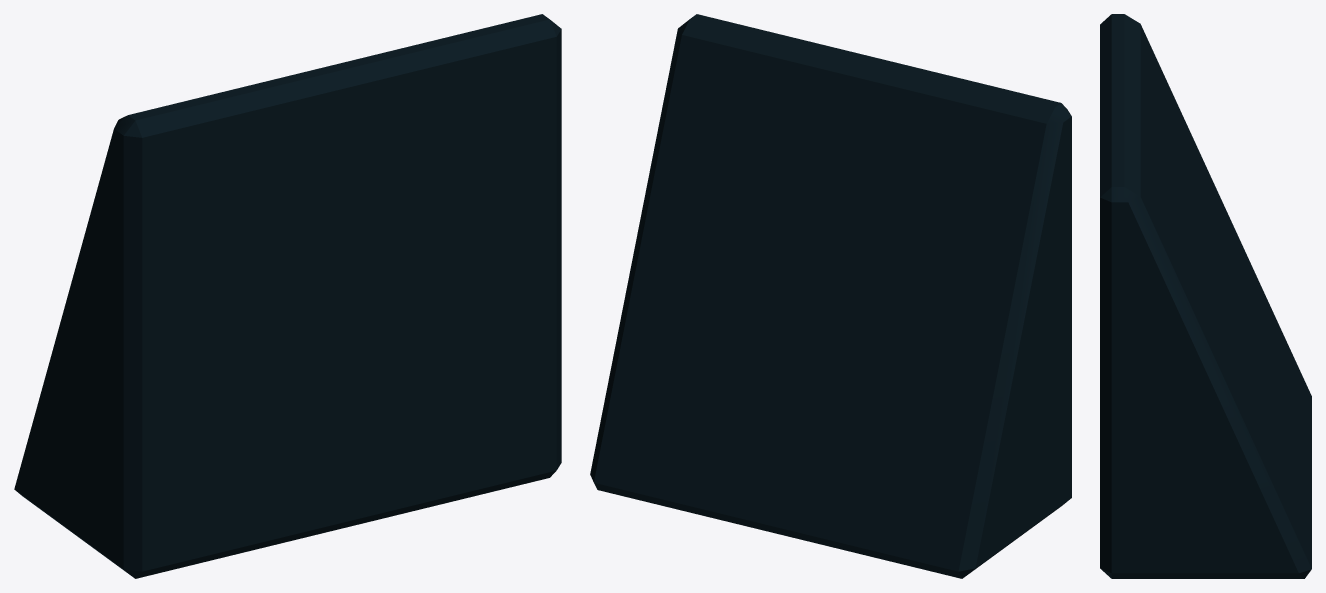
Rendered from OneRoom_TriangularBackrest.fbx.
The picture shows the model from 3 angles, left to right: view 1: azimuth 30°, elevation 25°; view 2: azimuth 150°, elevation 25°; view 3: azimuth 270°, elevation 25°; orthographic projection. The views are drawn at different scales.
Parts seen in each view (by area): view 1: TriangularBackrest; view 2: TriangularBackrest; view 3: TriangularBackrest.
Part boxes in pixels (left/top/right/bottom): TriangularBackrest: left=14, top=14, right=561, bottom=578; TriangularBackrest: left=590, top=14, right=1071, bottom=578; TriangularBackrest: left=1100, top=14, right=1311, bottom=578.
Bounding box in the file's own units: 40 × 40 × 19.59.
